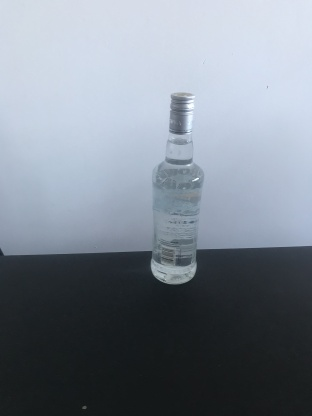nakretka: (168, 90, 197, 136)
